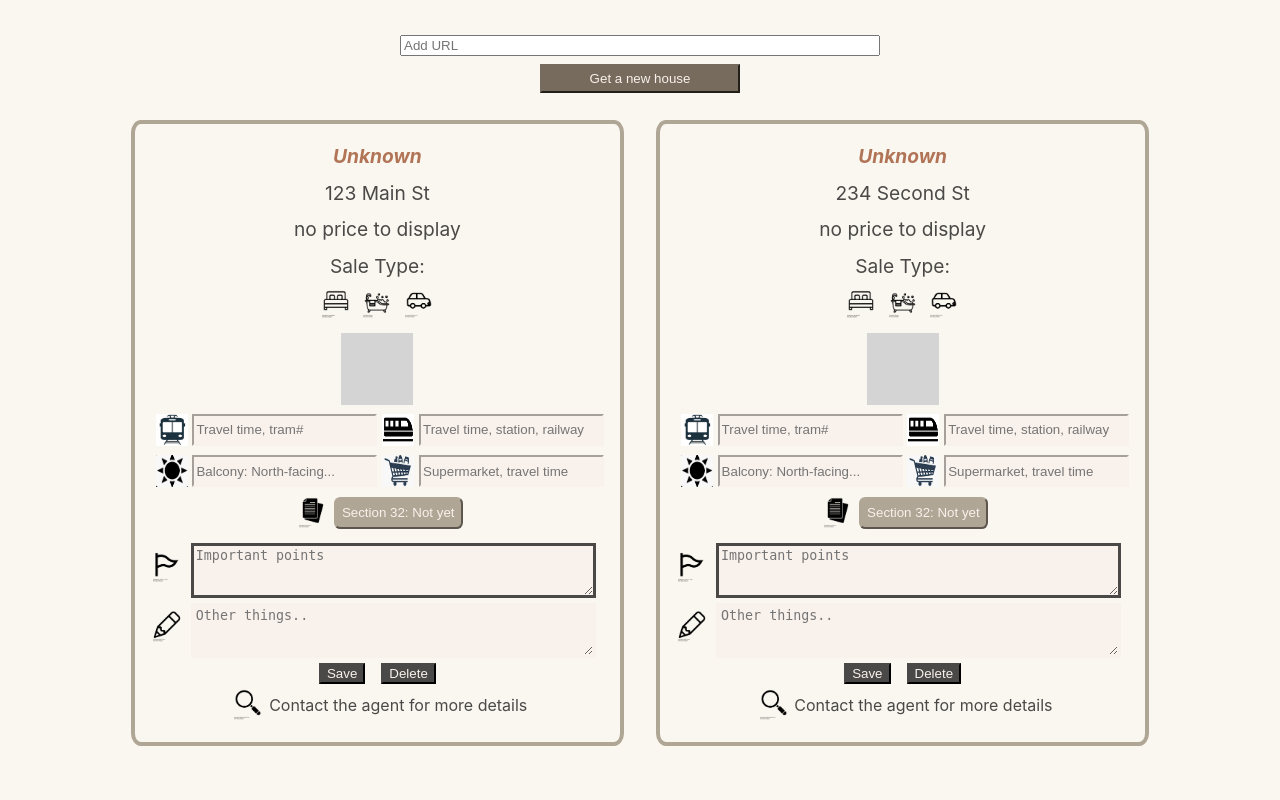
Test case: App › App › an invalid url is entered › displays error message
In the field with placeholder "Add URL": (640, 46) left=400, top=35, right=880, bottom=56, type "http://www.google.com/"
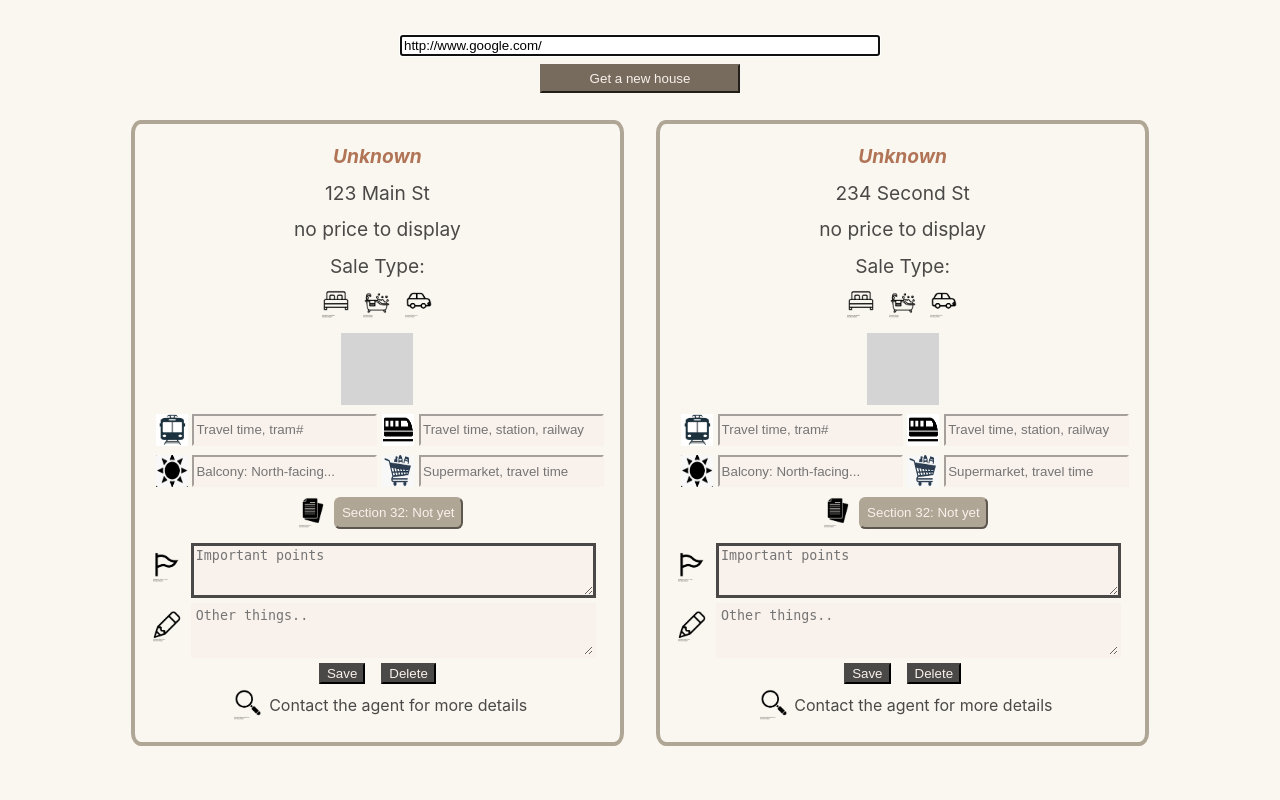
Click the button "Get a new house": (640, 78) left=540, top=64, right=740, bottom=93
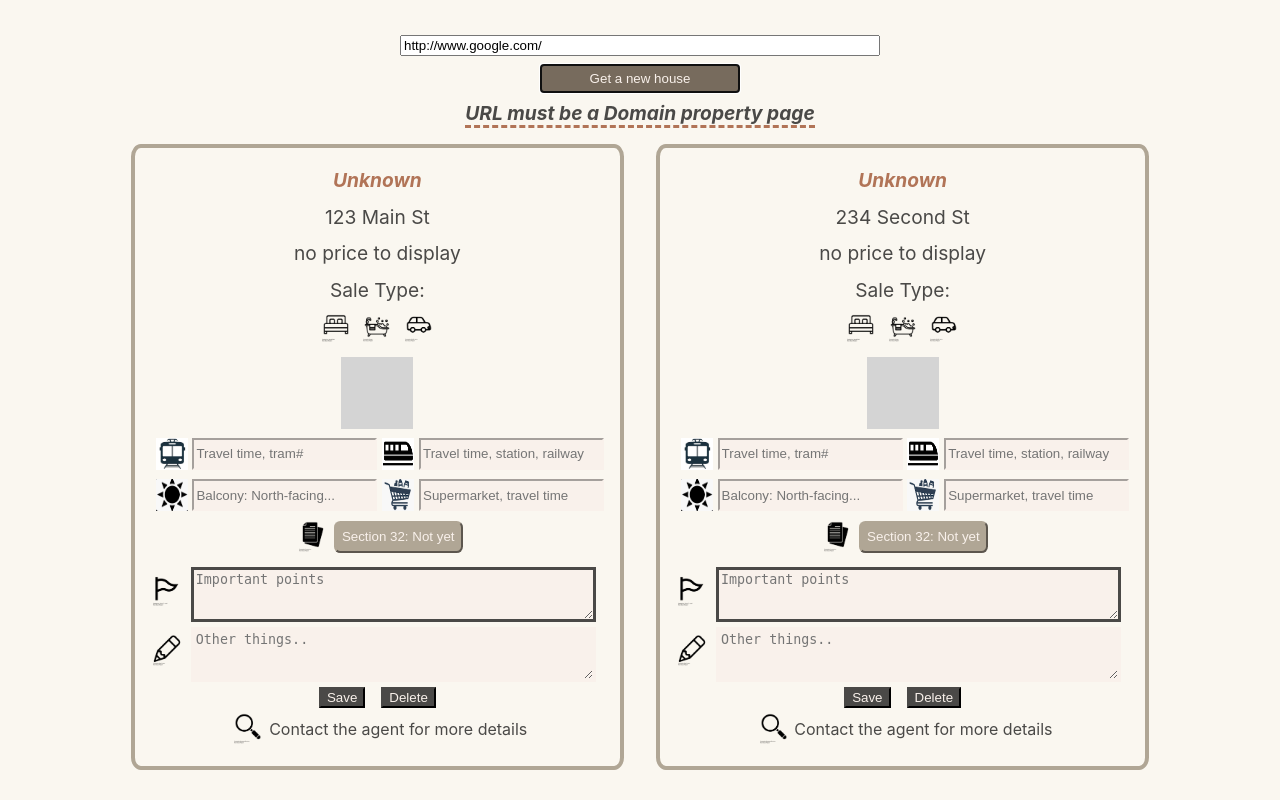
Check: the text "URL must be a Domain property page" is shown, box left=465, top=93, right=815, bottom=128
